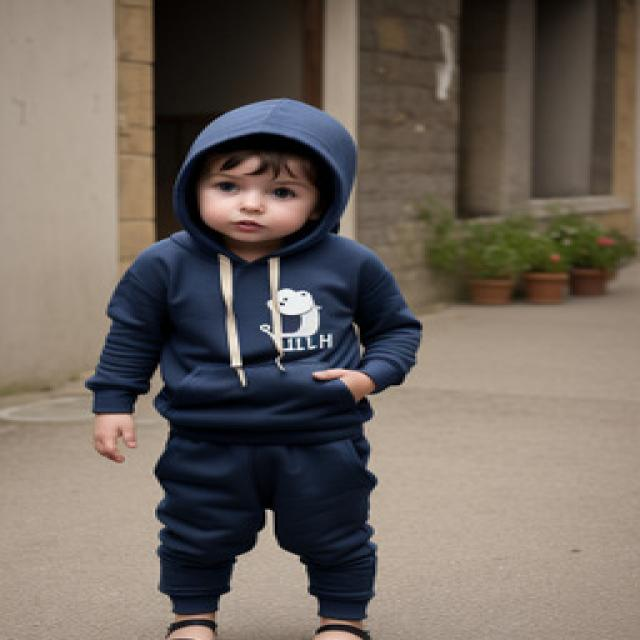Ai human 2: (85, 81, 410, 640)
